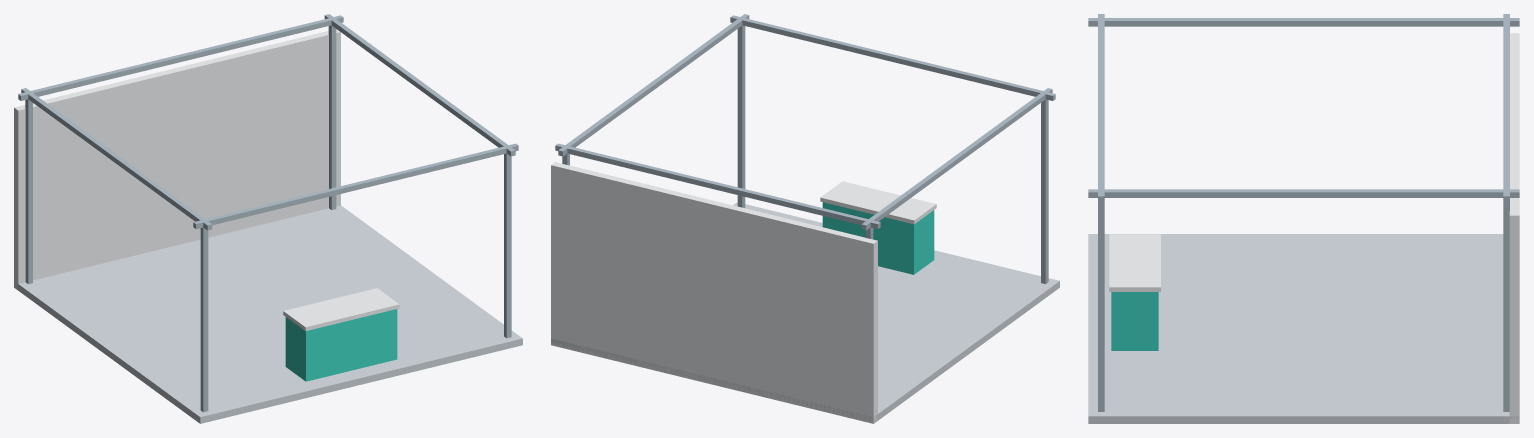
3 views of the same model, side by side, from view 1: azimuth 30°, elevation 25°; view 2: azimuth 150°, elevation 25°; view 3: azimuth 270°, elevation 25° (orthographic). The views are drawn at different scales.
Parts seen in each view (by area): view 1: Exhibition Booth Concept; view 2: Exhibition Booth Concept; view 3: Exhibition Booth Concept.
Boxes of the visible parts, x1,y1,x2,y2 form: Exhibition Booth Concept: [14, 14, 522, 423]; Exhibition Booth Concept: [551, 14, 1059, 423]; Exhibition Booth Concept: [1088, 14, 1519, 423].
Size of the model in its own units: 6 by 3.49 by 6.
